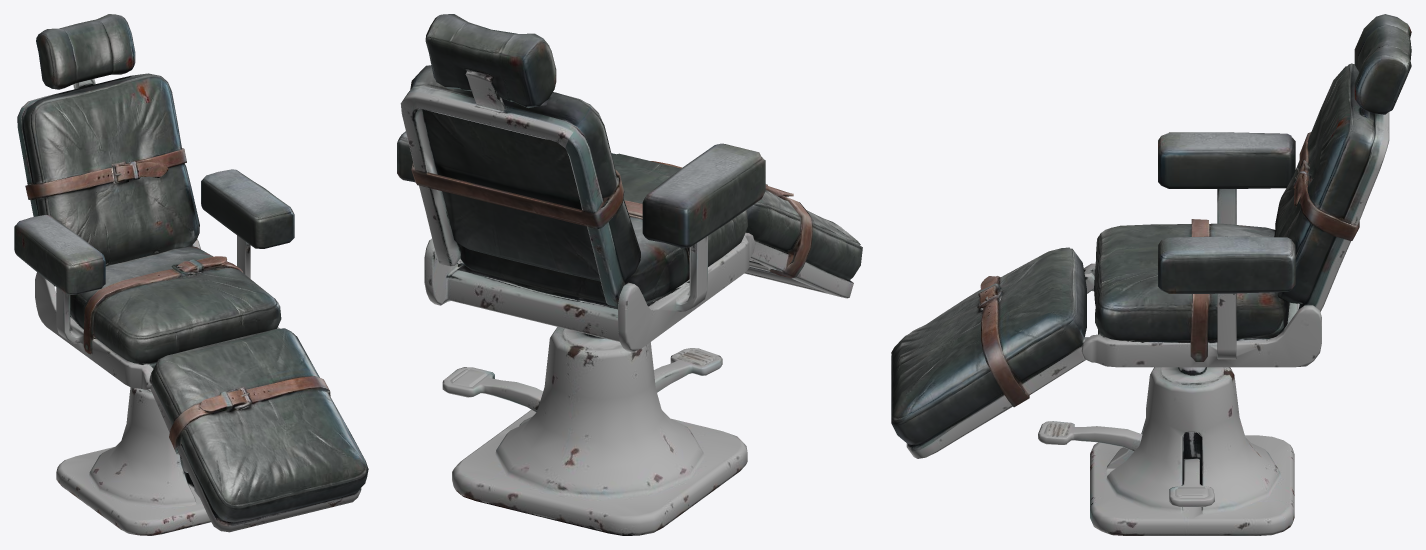
File: mg_chair.glb
The picture shows the model from 3 angles, left to right: view 1: azimuth 30°, elevation 25°; view 2: azimuth 150°, elevation 25°; view 3: azimuth 270°, elevation 25°; orthographic projection. The views are drawn at different scales.
Parts seen in each view (by area): view 1: Delivery_05_SM_mg_armchair_0; view 2: Delivery_05_SM_mg_armchair_0; view 3: Delivery_05_SM_mg_armchair_0.
Boxes of the visible parts, x1,y1,x2,y2 form: Delivery_05_SM_mg_armchair_0: [14, 14, 368, 535]; Delivery_05_SM_mg_armchair_0: [397, 14, 862, 535]; Delivery_05_SM_mg_armchair_0: [891, 14, 1411, 535].
Size of the model in its own units: 1.11 by 1.88 by 1.92.
Materials: 1 (1 with a texture image).
